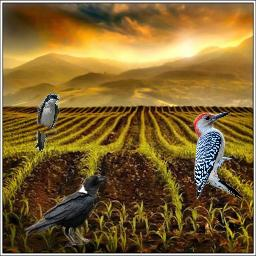Crow: (24, 172, 110, 246)
Swallow: (35, 94, 60, 151)
Woodpecker: (189, 108, 248, 207)
